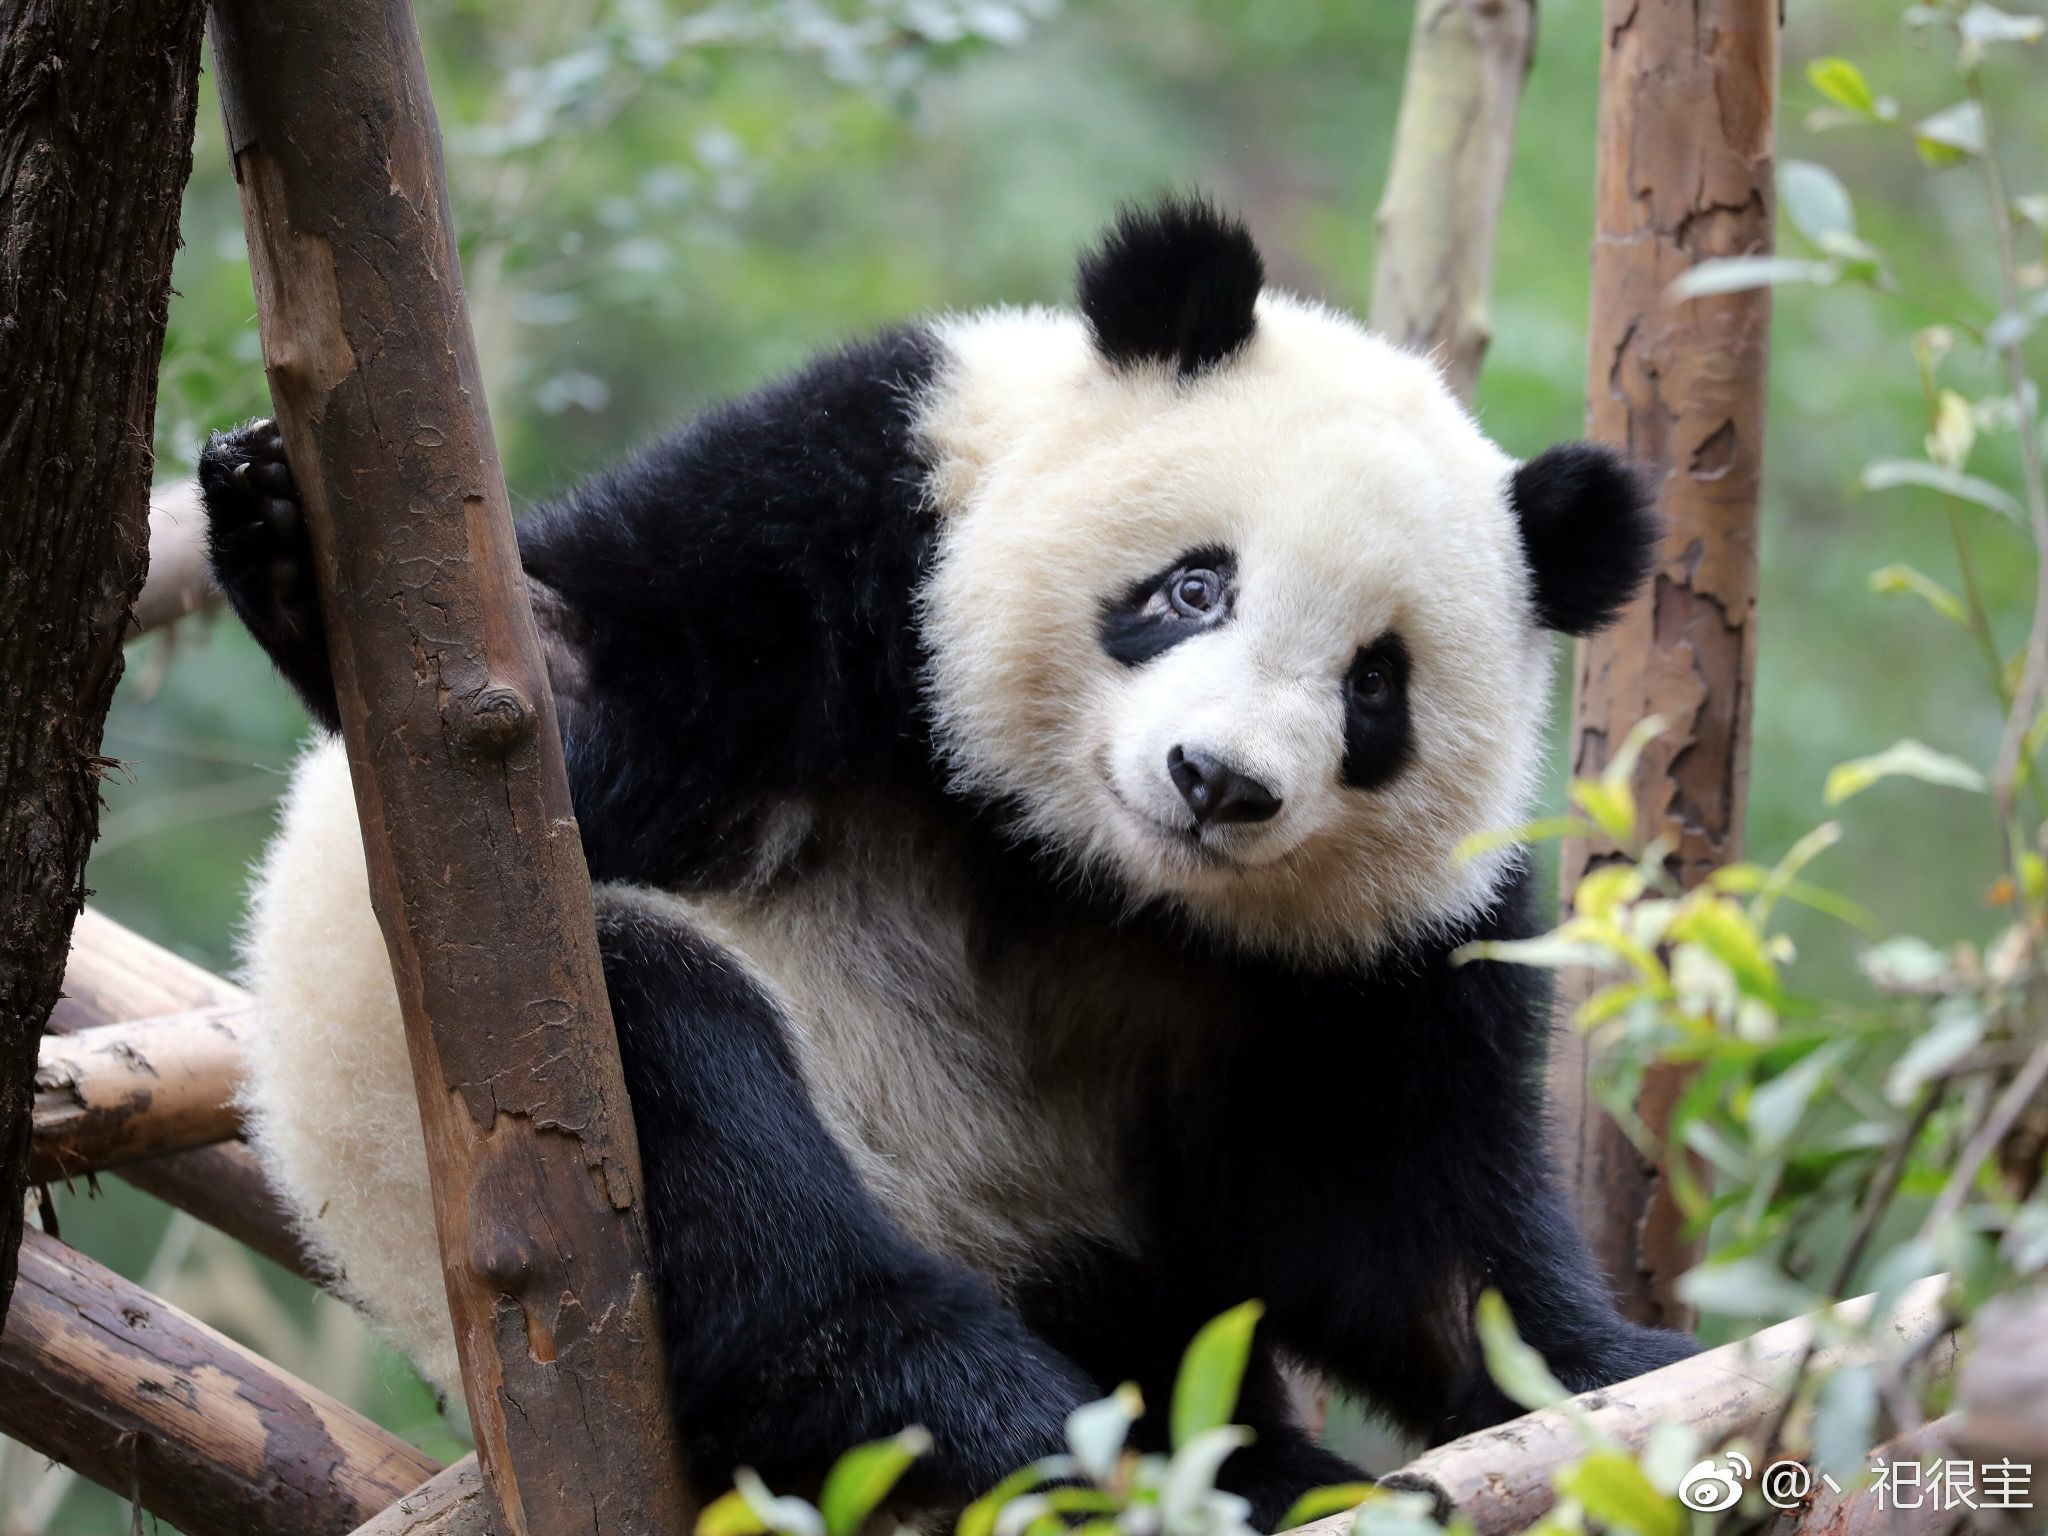panda: (197, 195, 1688, 1504)
